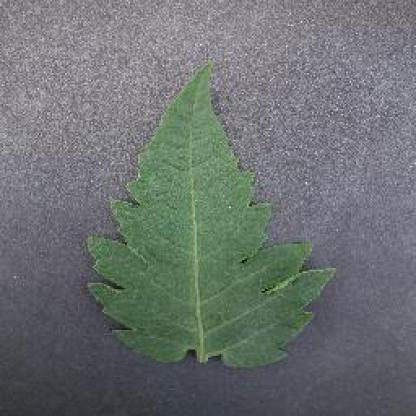good leaf: (84, 44, 332, 372)
